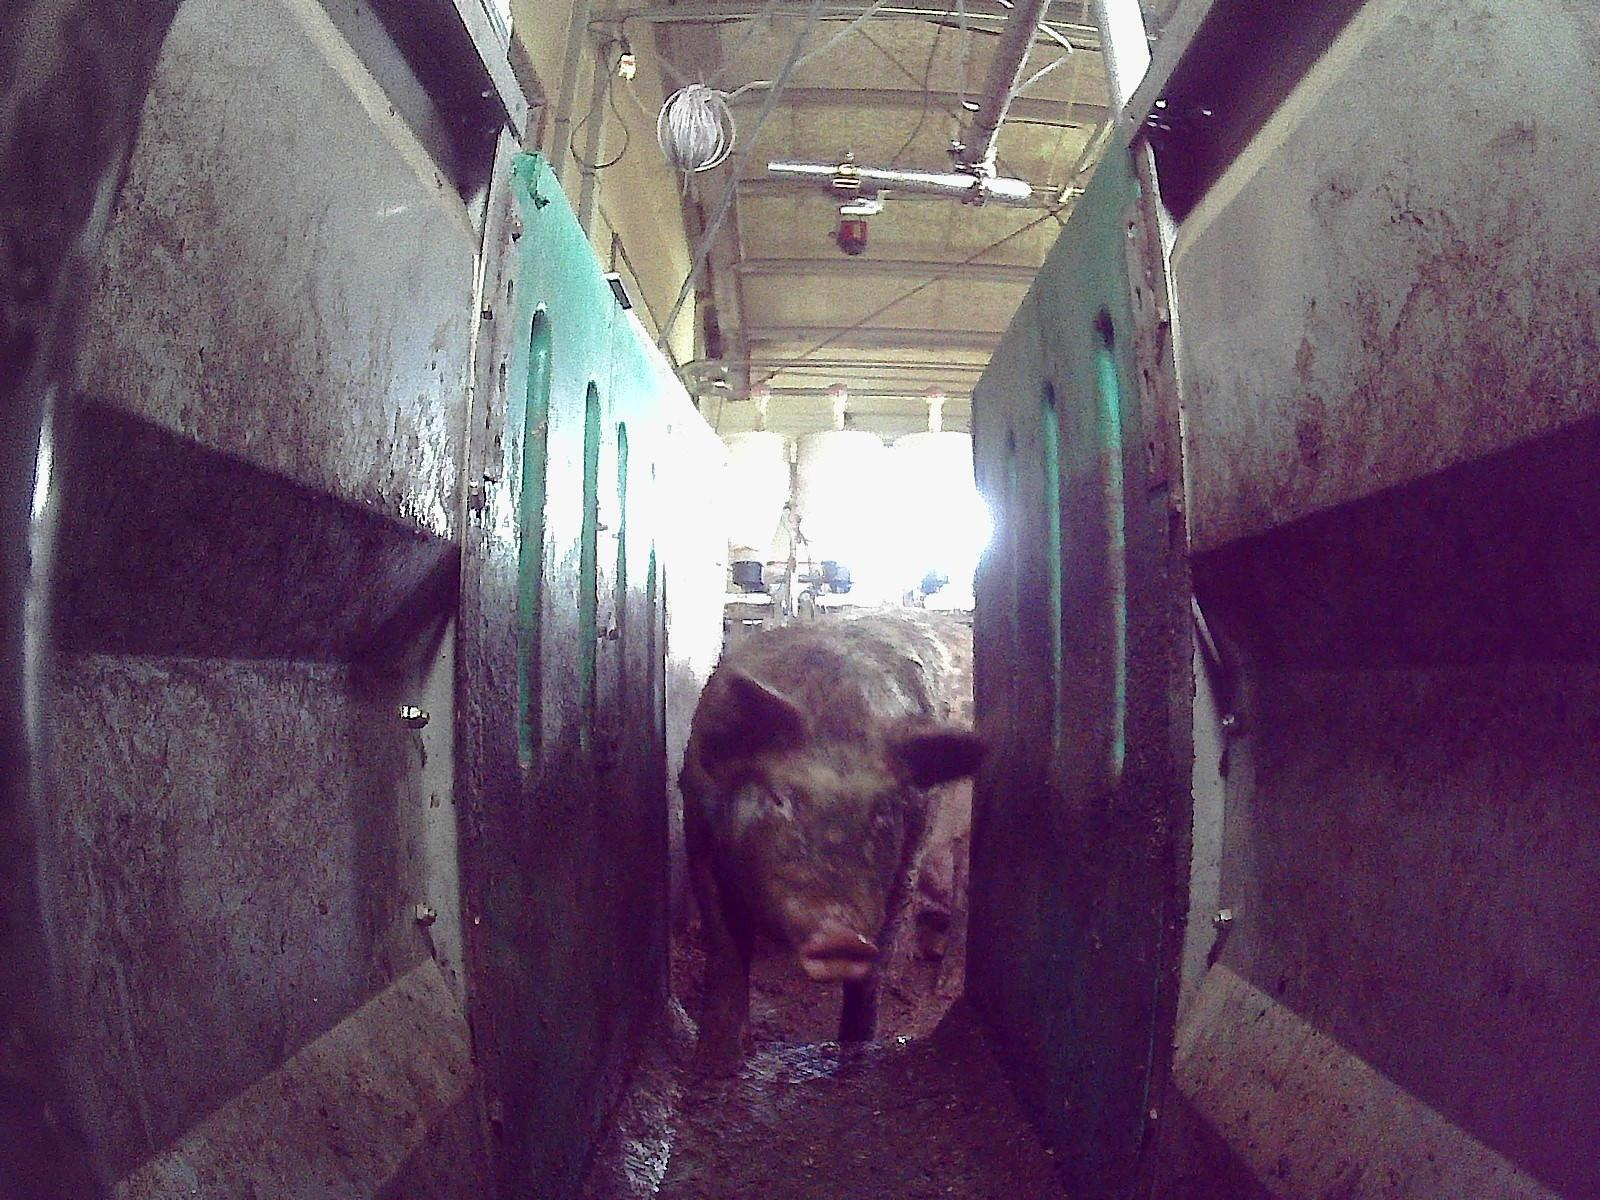Face: (734, 751, 909, 981)
